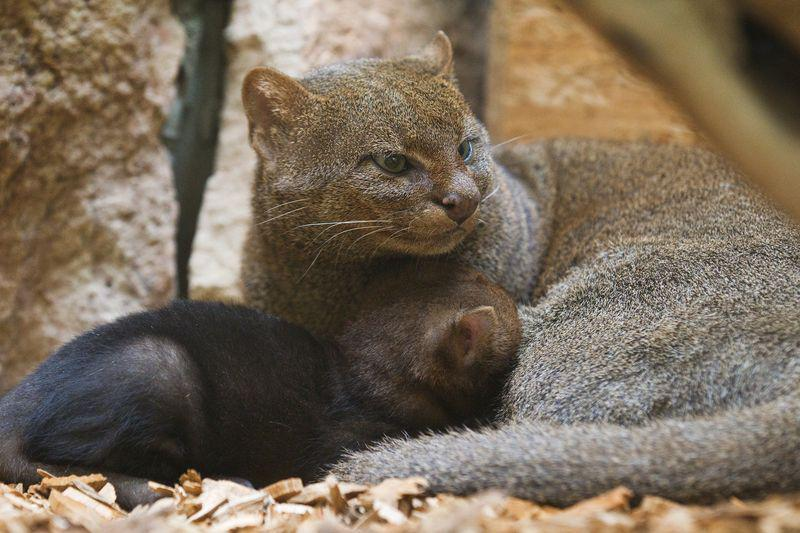Jaguarundi: (231, 24, 795, 500), (10, 267, 520, 463)
